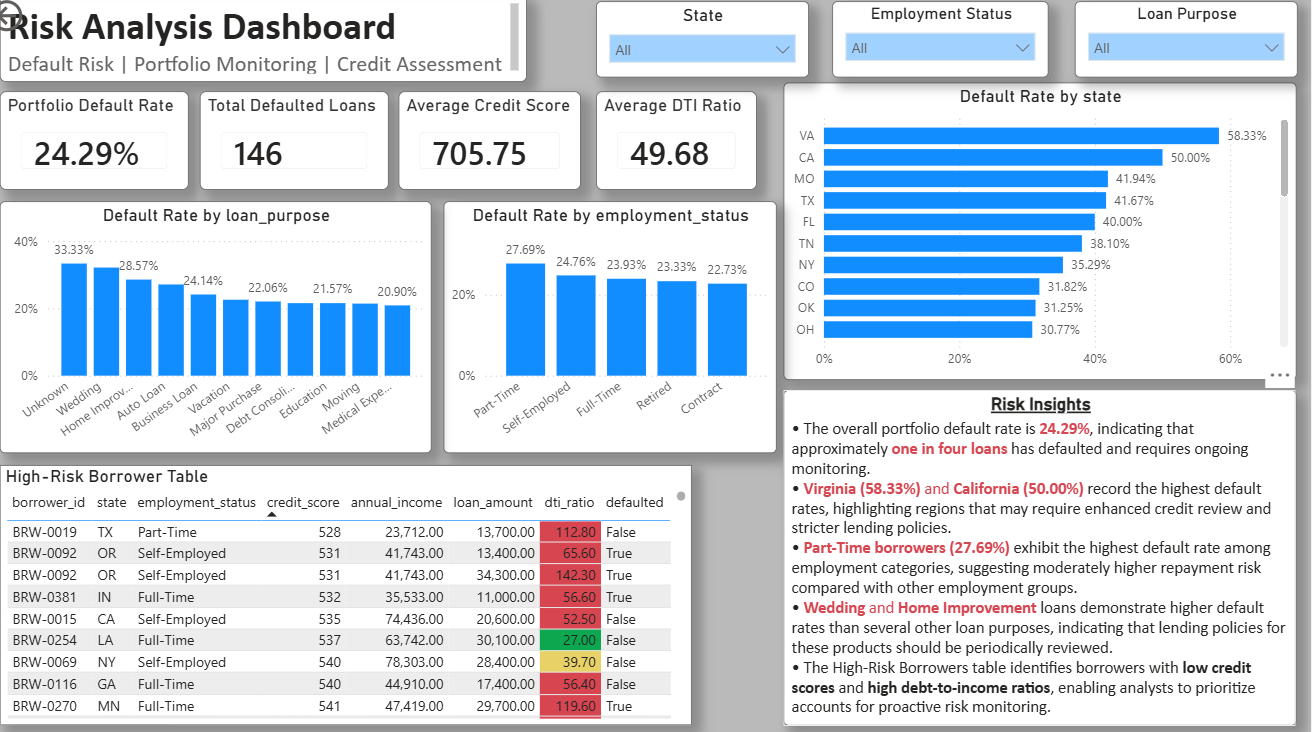

The page's visual inventory and layout, read from the dashboard file:
{"tool":"powerbi","page":{"name":"Risk Analysis","canvas":[1280,720],"ordinal":1},"visuals":[{"type":"textbox","box":[13.5,0,508.7,84.4],"z":0},{"type":"cardVisual","title":"Portfolio Default Rate","fields":{"Data":["public borrower_risk_summary.Default Rate"]},"box":[13.5,92.9,182.2,95.4],"z":1000},{"type":"cardVisual","title":"Total Defaulted Loans","fields":{"Data":["public borrower_risk_summary.Defaulted Loans"]},"box":[206.7,92.9,182.2,95.4],"z":2000},{"type":"cardVisual","title":"Average Credit Score","fields":{"Data":["public borrower_risk_summary.Average Credit Score"]},"box":[398.6,92.9,176.1,95.4],"z":3000},{"type":"cardVisual","title":"Average DTI Ratio","fields":{"Data":["public borrower_risk_summary.Average DTI"]},"box":[588.2,92.9,155.3,95.4],"z":4000},{"type":"clusteredBarChart","fields":{"Category":["public borrower_risk_summary.state"],"Y":["public borrower_risk_summary.Default Rate"]},"box":[769.2,84.4,495.2,287.4],"z":5000},{"type":"clusteredColumnChart","fields":{"Y":["public borrower_risk_summary.Default Rate"],"Category":["public borrower_risk_summary.employment_status"]},"box":[441.4,199.3,321.6,243.3],"z":6000},{"type":"clusteredColumnChart","fields":{"Y":["public borrower_risk_summary.Default Rate"],"Category":["public borrower_risk_summary.loan_purpose"]},"box":[13.5,199.3,417,243.3],"z":7000},{"type":"tableEx","title":"High-Risk Borrower Table","fields":{"Values":["public borrower_risk_summary.borrower_id","public borrower_risk_summary.state","public borrower_risk_summary.employment_status","public borrower_risk_summary.credit_score","public borrower_risk_summary.annual_income","public borrower_risk_summary.loan_amount","public borrower_risk_summary.dti_ratio","public borrower_risk_summary.defaulted"]},"box":[13.3,453.6,668.4,250.9],"z":8000},{"type":"actionButton","box":[0,0,100,40],"z":9000},{"type":"slicer","title":"State","fields":{"Values":["public borrower_risk_summary.state"]},"box":[588.2,6.1,205.4,73.4],"z":10000},{"type":"slicer","title":"Employment Status","fields":{"Values":["public borrower_risk_summary.employment_status"]},"box":[816.9,6.1,209.1,73.4],"z":11000},{"type":"slicer","title":"Loan Purpose","fields":{"Values":["public borrower_risk_summary.loan_purpose"]},"box":[1050.4,6.1,215.2,73.4],"z":12000},{"type":"textbox","title":"Risk Insights","box":[769.2,381.5,495.2,324.1],"z":13000}]}

Visuals, with their boxes in screenshot pixels (x1, y1, x2, y2), scaled from the page's 1280x720 canvas onto the 1312x732 screenshot:
textbox: locate(14, 0, 535, 86)
"Portfolio Default Rate" cardVisual: locate(14, 94, 201, 191)
"Total Defaulted Loans" cardVisual: locate(212, 94, 399, 191)
"Average Credit Score" cardVisual: locate(409, 94, 589, 191)
"Average DTI Ratio" cardVisual: locate(603, 94, 762, 191)
clusteredBarChart - public borrower_risk_summary.state x public borrower_risk_summary.Default Rate: locate(788, 86, 1296, 378)
clusteredColumnChart - public borrower_risk_summary.Default Rate x public borrower_risk_summary.employment_status: locate(452, 203, 782, 450)
clusteredColumnChart - public borrower_risk_summary.Default Rate x public borrower_risk_summary.loan_purpose: locate(14, 203, 441, 450)
"High-Risk Borrower Table" tableEx: locate(14, 461, 699, 716)
actionButton: locate(0, 0, 102, 41)
"State" slicer: locate(603, 6, 813, 81)
"Employment Status" slicer: locate(837, 6, 1052, 81)
"Loan Purpose" slicer: locate(1077, 6, 1297, 81)
"Risk Insights" textbox: locate(788, 388, 1296, 717)
